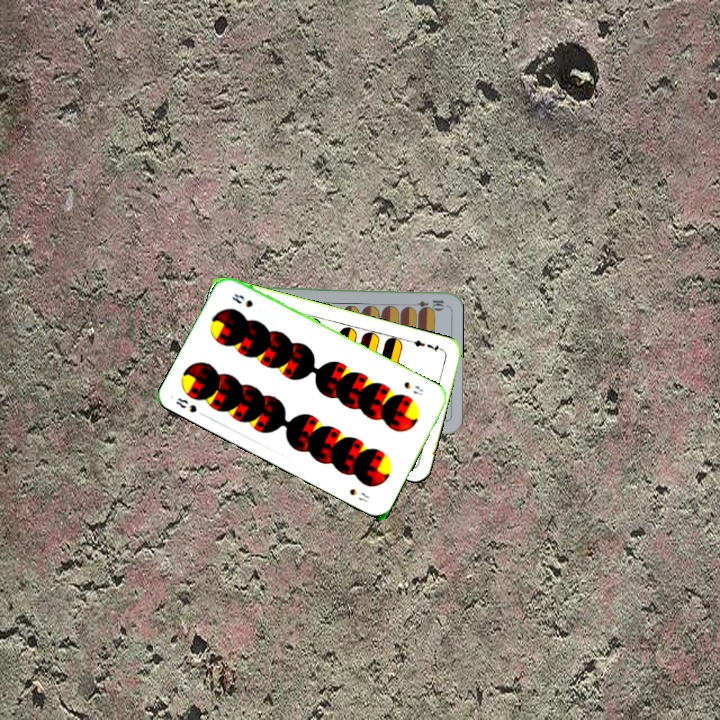E10: (406, 296, 447, 310)
E7: (406, 336, 446, 355)
S8: (172, 394, 199, 415), (400, 377, 426, 398)
